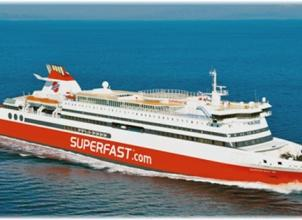youlun: (1, 59, 302, 188)
